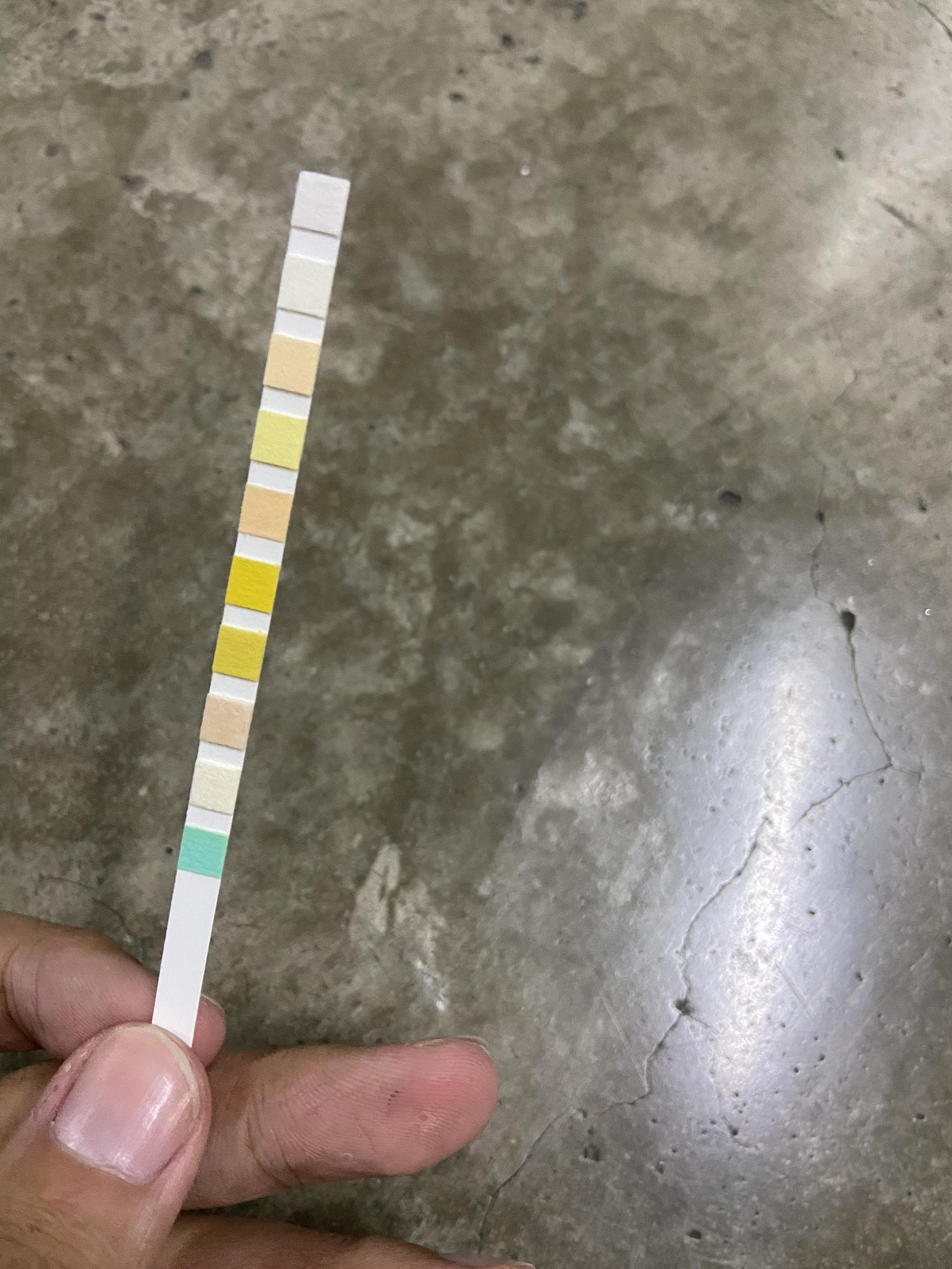Bilirubin: (195, 768, 234, 808)
Blood: (232, 563, 271, 603)
Glucose: (185, 834, 221, 870)
Ketone: (206, 702, 245, 742)
Leukocytes: (300, 179, 343, 229)
Nitrite: (287, 264, 328, 308)
Protein: (257, 417, 299, 462)
SpGravity: (219, 633, 258, 672)
Urobilinogen: (271, 342, 312, 386)
pH: (247, 494, 286, 533)
strip: (152, 170, 351, 1029)
